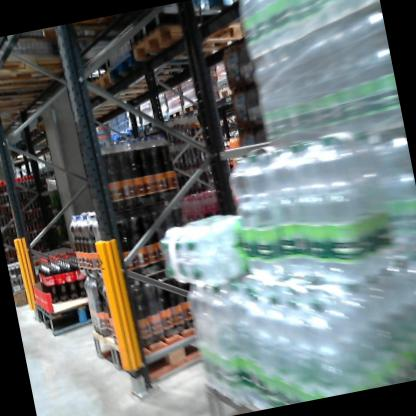pallet: (84, 285, 271, 401), (129, 4, 253, 72), (33, 267, 134, 343), (0, 40, 86, 101), (84, 54, 176, 109), (106, 40, 203, 92), (33, 94, 136, 137), (12, 276, 54, 310), (215, 83, 238, 102), (180, 99, 202, 112), (166, 106, 185, 120), (154, 113, 170, 129), (141, 117, 157, 132), (117, 129, 133, 142), (128, 124, 145, 136), (229, 112, 244, 125), (218, 116, 232, 128)
